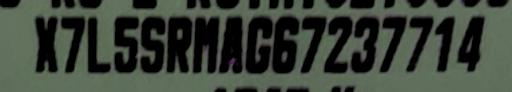letter: (454, 12, 486, 72), (31, 11, 61, 75), (348, 14, 380, 72), (298, 13, 328, 73), (82, 13, 112, 73), (111, 13, 141, 73), (58, 13, 86, 77), (405, 14, 435, 72), (190, 15, 220, 73), (138, 12, 166, 72), (164, 13, 192, 73), (378, 15, 408, 71), (216, 15, 246, 71), (322, 16, 352, 72), (272, 15, 300, 75), (245, 14, 271, 72), (432, 14, 456, 74)
